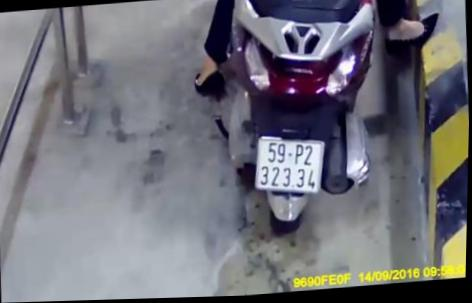LP: (252, 131, 328, 201)
